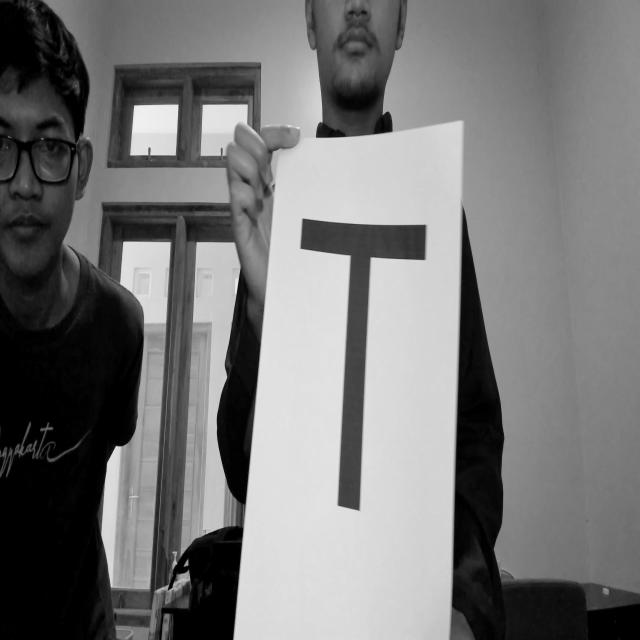t: (291, 201, 433, 524)
